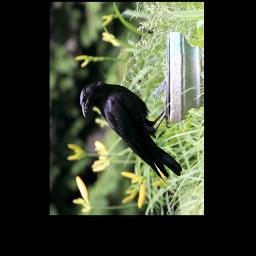Crow: (80, 81, 183, 185)
